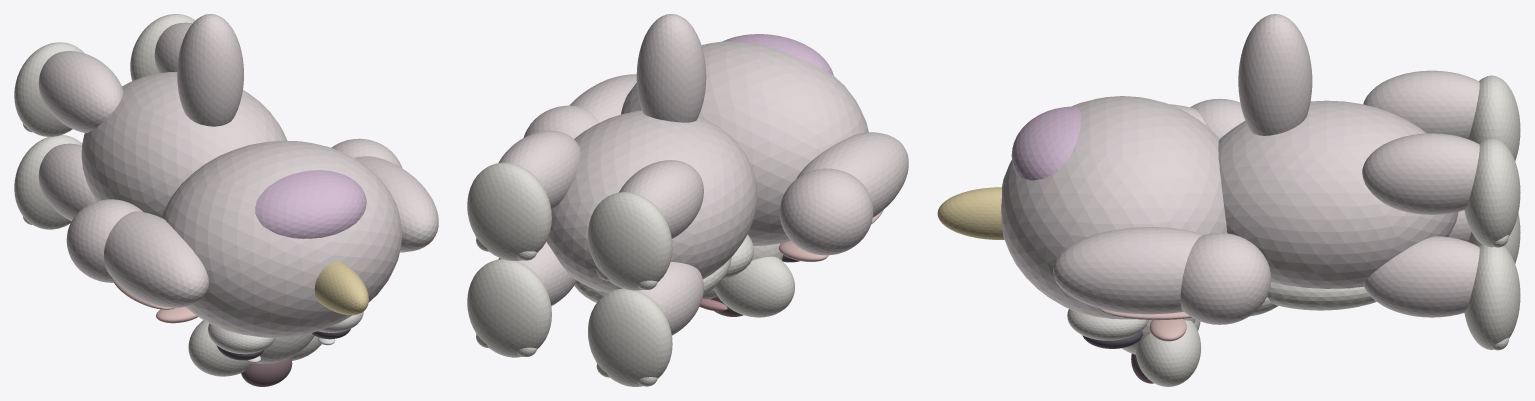
Rendered from dog-05.glb.
3 views of the same model, side by side, from view 1: azimuth 30°, elevation 25°; view 2: azimuth 150°, elevation 25°; view 3: azimuth 270°, elevation 25° (orthographic). The views are drawn at different scales.
Parts seen in each view (by area): view 1: head, body, longEarL, tail, unicornMane, legBodybackL, longEarR, earEndL, legBodyfrontL, pawbackL, pawfrontL, unicornHorn (+9 smaller); view 2: body, head, earEndL, pawbackR, pawbackL, pawfrontL, pawfrontR, tail, longEarL, legBodybackL, muzzlePuffL, legBodybackR (+9 smaller); view 3: body, head, longEarR, legBodybackR, tail, legBodyfrontR, earEndR, legBodybackL, pawbackR, pawfrontR, unicornMane, muzzlePuffR (+8 smaller).
Boxes of the visible parts, bbox=[...] form: head: bbox=[161, 140, 401, 338]; body: bbox=[81, 72, 287, 217]; longEarL: bbox=[104, 211, 208, 307]; tail: bbox=[177, 14, 243, 126]; unicornMane: bbox=[255, 170, 366, 238]; legBodybackL: bbox=[38, 51, 123, 132]; longEarR: bbox=[354, 156, 438, 251]; earEndL: bbox=[66, 199, 142, 282]; legBodyfrontL: bbox=[38, 143, 96, 221]; pawbackL: bbox=[14, 42, 84, 136]; pawfrontL: bbox=[14, 135, 82, 229]; unicornHorn: bbox=[314, 262, 368, 315]; body: bbox=[546, 110, 757, 292]; head: bbox=[621, 41, 868, 245]; earEndL: bbox=[779, 168, 873, 255]; pawbackR: bbox=[467, 162, 551, 260]; pawbackL: bbox=[588, 192, 672, 290]; pawfrontL: bbox=[588, 288, 672, 386]; pawfrontR: bbox=[467, 259, 551, 357]; tail: bbox=[636, 14, 706, 122]; longEarL: bbox=[796, 132, 908, 217]; legBodybackL: bbox=[619, 160, 703, 238]; muzzlePuffL: bbox=[714, 256, 794, 317]; legBodybackR: bbox=[498, 130, 580, 209]; body: bbox=[1218, 100, 1458, 288]; head: bbox=[1001, 96, 1227, 319]; longEarR: bbox=[1053, 227, 1204, 314]; legBodybackR: bbox=[1362, 133, 1479, 214]; tail: bbox=[1238, 14, 1312, 135]; legBodyfrontR: bbox=[1363, 236, 1479, 317]; earEndR: bbox=[1180, 233, 1271, 324]; legBodybackL: bbox=[1363, 70, 1479, 138]; pawbackR: bbox=[1464, 138, 1520, 247]; pawfrontR: bbox=[1464, 244, 1520, 349]; unicornMane: bbox=[1011, 106, 1080, 180]; muzzlePuffR: bbox=[1135, 320, 1200, 386].
Size of the model in its own units: 2.02 by 1.95 by 2.83.
